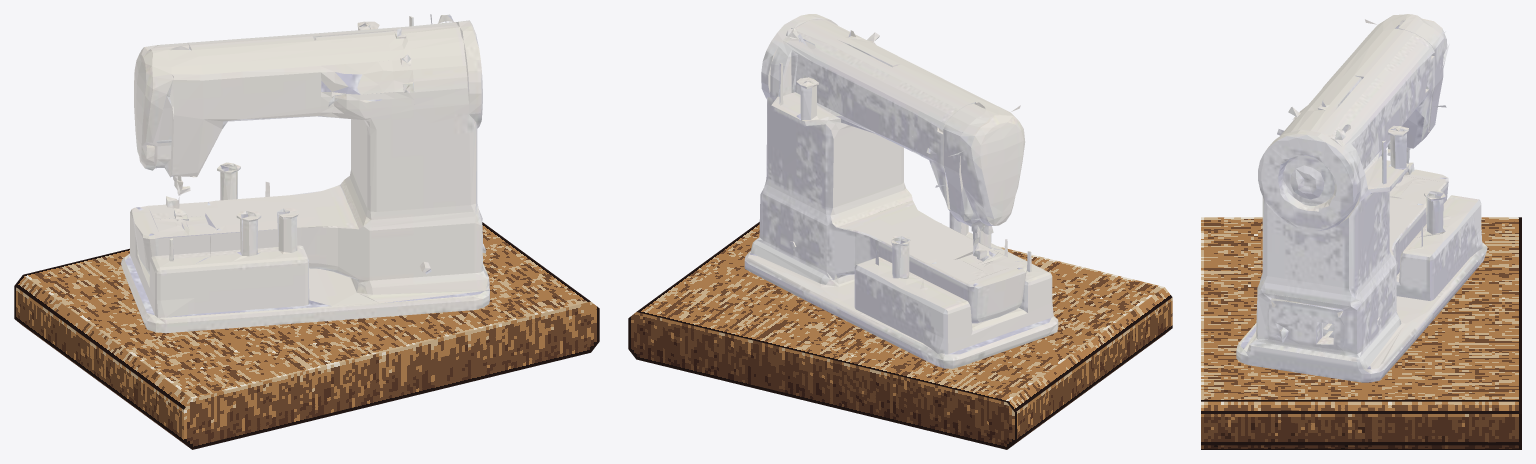
File: sewing.glb
The picture shows the model from 3 angles, left to right: view 1: azimuth 30°, elevation 25°; view 2: azimuth 150°, elevation 25°; view 3: azimuth 270°, elevation 25°; orthographic projection. The views are drawn at different scales.
Visible parts, largest first — view 1: model_machine, base; view 2: model_machine, base; view 3: model_machine, base.
Boxes of the visible parts, x1=… form: model_machine: x1=121, y1=14, x2=489, y2=333; base: x1=14, y1=222, x2=599, y2=449; model_machine: x1=744, y1=14, x2=1058, y2=368; base: x1=628, y1=222, x2=1172, y2=449; model_machine: x1=1236, y1=14, x2=1487, y2=382; base: x1=1201, y1=217, x2=1521, y2=449.
Bounding box in the file's own units: 34 × 24.05 × 24.
2 materials, 2 textured.
